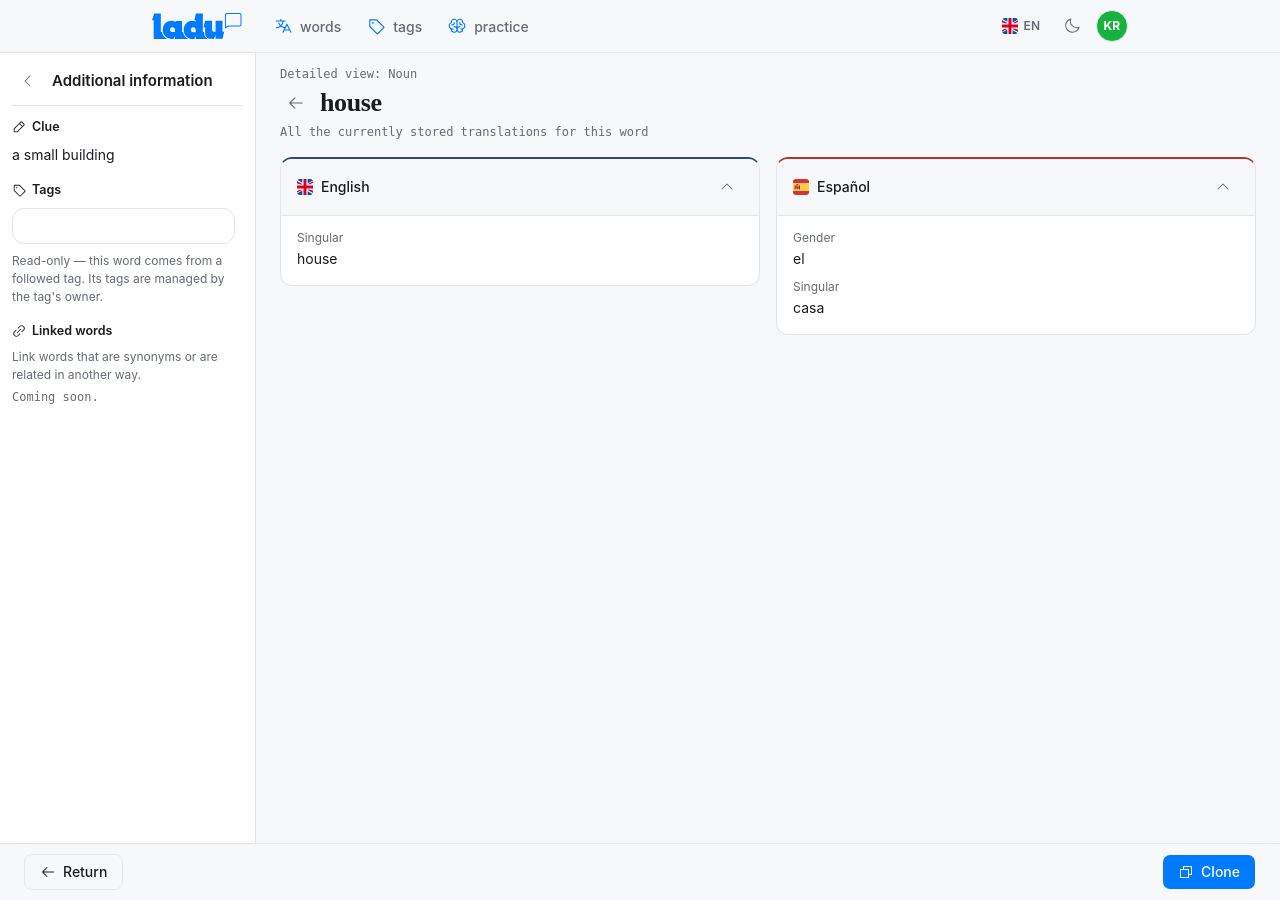
Test: WordPage — a word of someone else (a followed tag) › Clone first asks, and explains what is done; Cancel makes no request
Click the button "Clone".
click(1209, 872)  # box [1162, 854, 1256, 890]
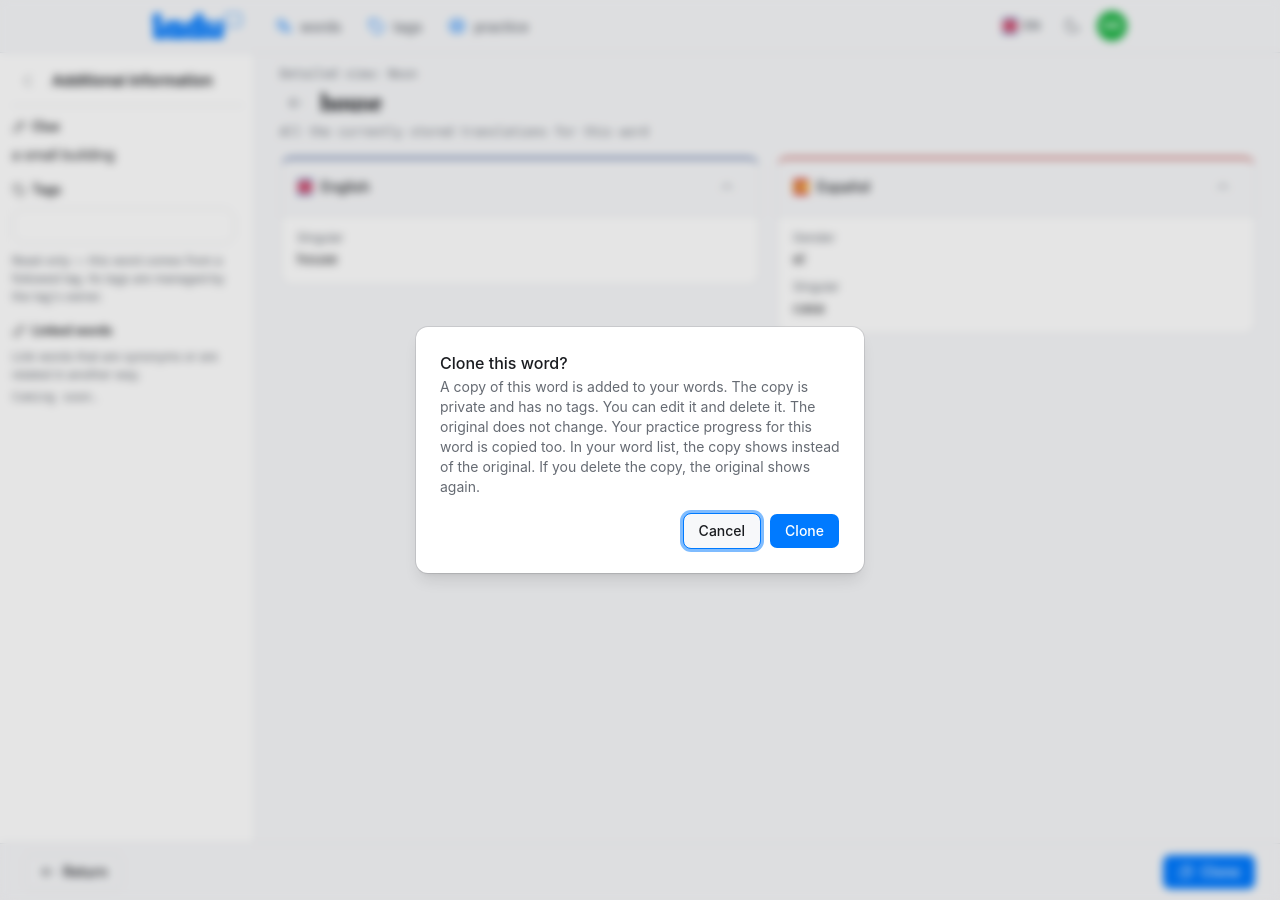
expect the heading "Clone this word?" is shown: met, box [440, 353, 568, 373]
expect the text "the copy shows instead of the original" is shown: met, box [440, 378, 840, 495]
Click the button "Cancel".
click(722, 531)  # box [683, 513, 761, 549]
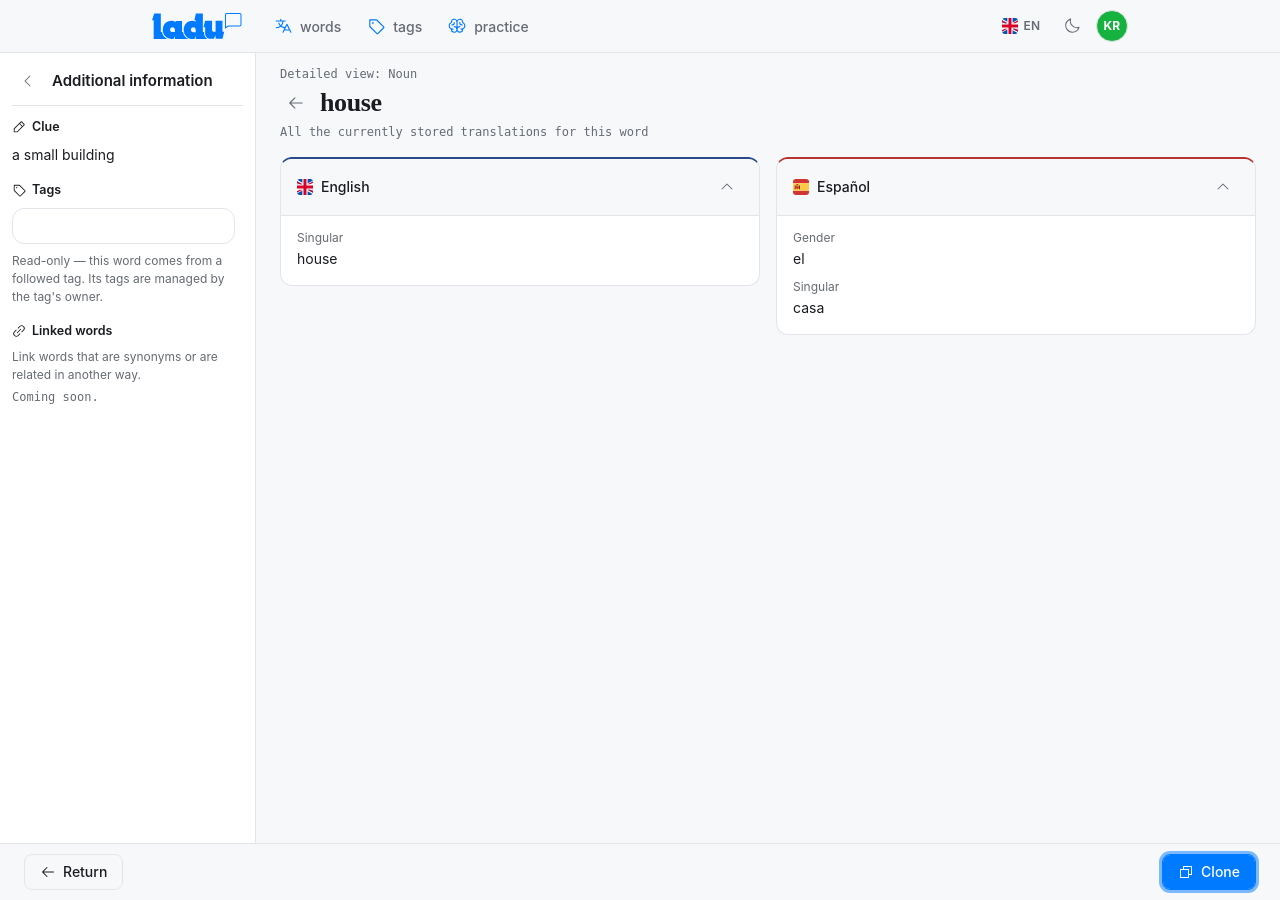
expect the dialog is gone: met
